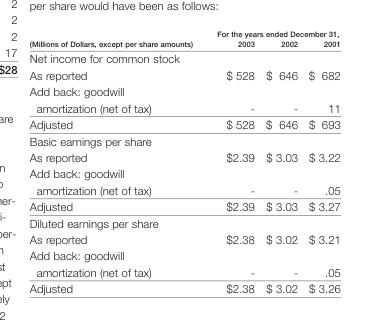table: (28, 28, 339, 294)
table column: (28, 28, 204, 294), (204, 28, 259, 294), (259, 28, 302, 294), (302, 28, 339, 294)
table column header: (28, 28, 339, 49)
table projected row header: (28, 49, 339, 66), (28, 132, 339, 148), (28, 214, 339, 230)
table row: (28, 82, 339, 115), (28, 164, 339, 197), (28, 246, 339, 279), (28, 49, 339, 66), (28, 115, 339, 132), (28, 197, 339, 214), (28, 66, 339, 82), (28, 132, 339, 148), (28, 148, 339, 164), (28, 214, 339, 230), (28, 230, 339, 246), (28, 279, 339, 294), (28, 38, 339, 49), (28, 28, 339, 38)
table spanning cell: (28, 28, 204, 49), (204, 28, 339, 38)
